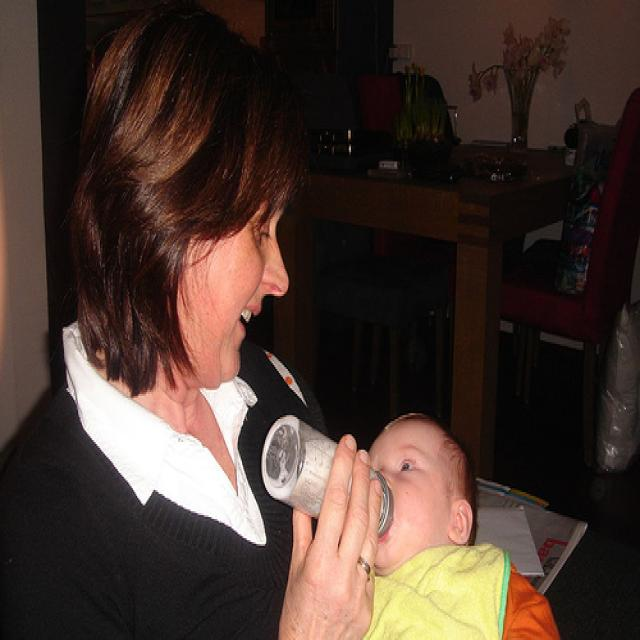Bottle: (260, 390, 410, 561)
People: (20, 18, 308, 640), (345, 412, 505, 640)
Table: (264, 59, 609, 429)
chair: (506, 50, 640, 479)
